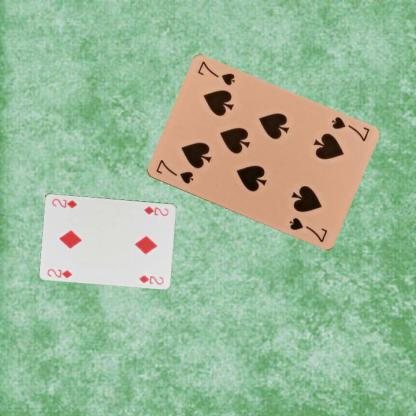2d: (141, 203, 170, 217), (44, 266, 74, 279)
7s: (153, 156, 195, 186), (328, 114, 371, 143)
